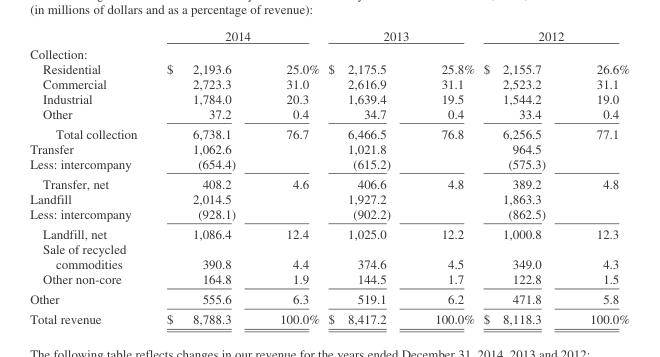table: (29, 28, 629, 326)
table column: (29, 28, 151, 326), (151, 28, 257, 326), (323, 28, 412, 326), (478, 28, 567, 326), (257, 28, 323, 326), (412, 28, 478, 326), (567, 28, 629, 326)
table column header: (29, 28, 629, 44)
table projected row header: (29, 44, 629, 60)
table row: (29, 241, 629, 271), (29, 288, 629, 308), (29, 105, 629, 123), (29, 155, 629, 173), (29, 173, 629, 191), (29, 223, 629, 241), (29, 308, 629, 326), (29, 123, 629, 140), (29, 206, 629, 223), (29, 271, 629, 288), (29, 28, 629, 44), (29, 44, 629, 60), (29, 60, 629, 75), (29, 75, 629, 90), (29, 90, 629, 105), (29, 140, 629, 155), (29, 191, 629, 206)
table spanning cell: (151, 28, 323, 44), (323, 28, 478, 44), (478, 28, 629, 44)
